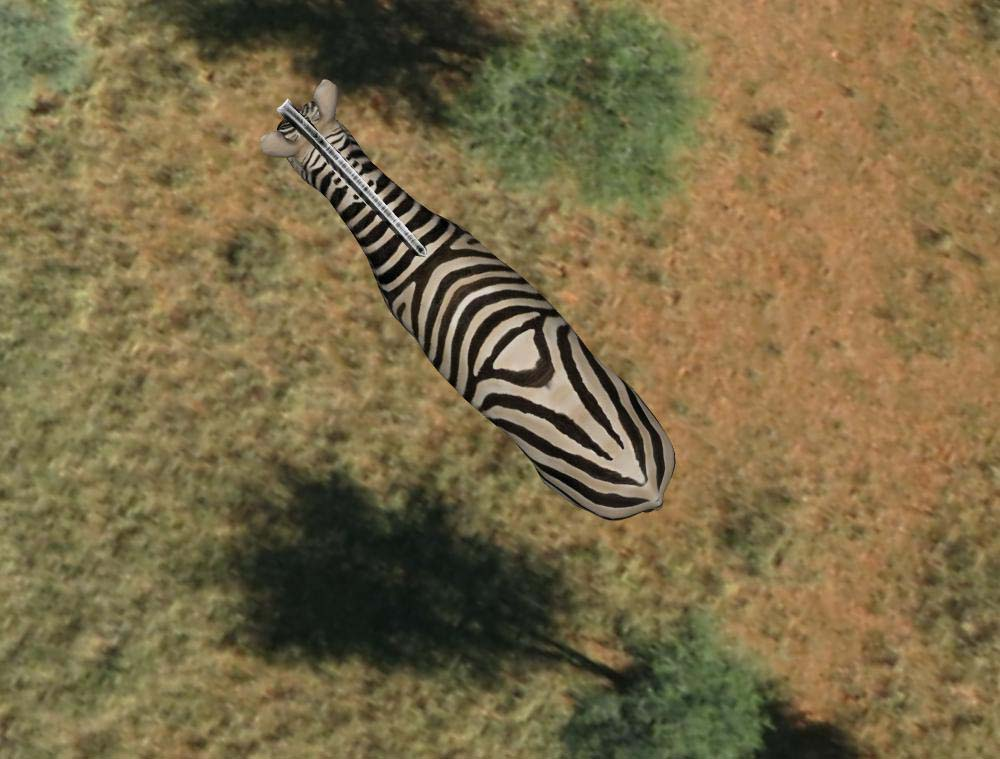zebra: (261, 77, 683, 534)
